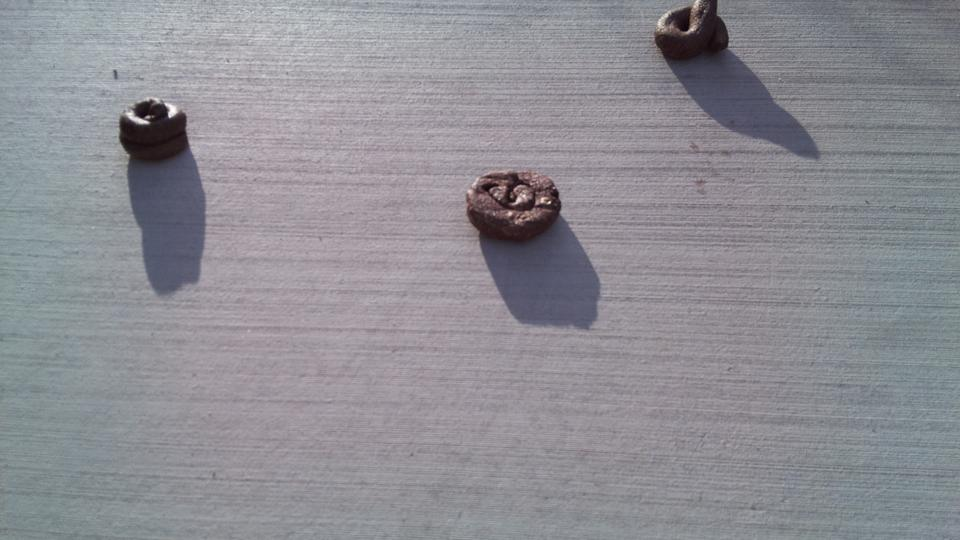poop: (462, 164, 565, 244), (650, 1, 732, 61), (116, 96, 190, 162)
